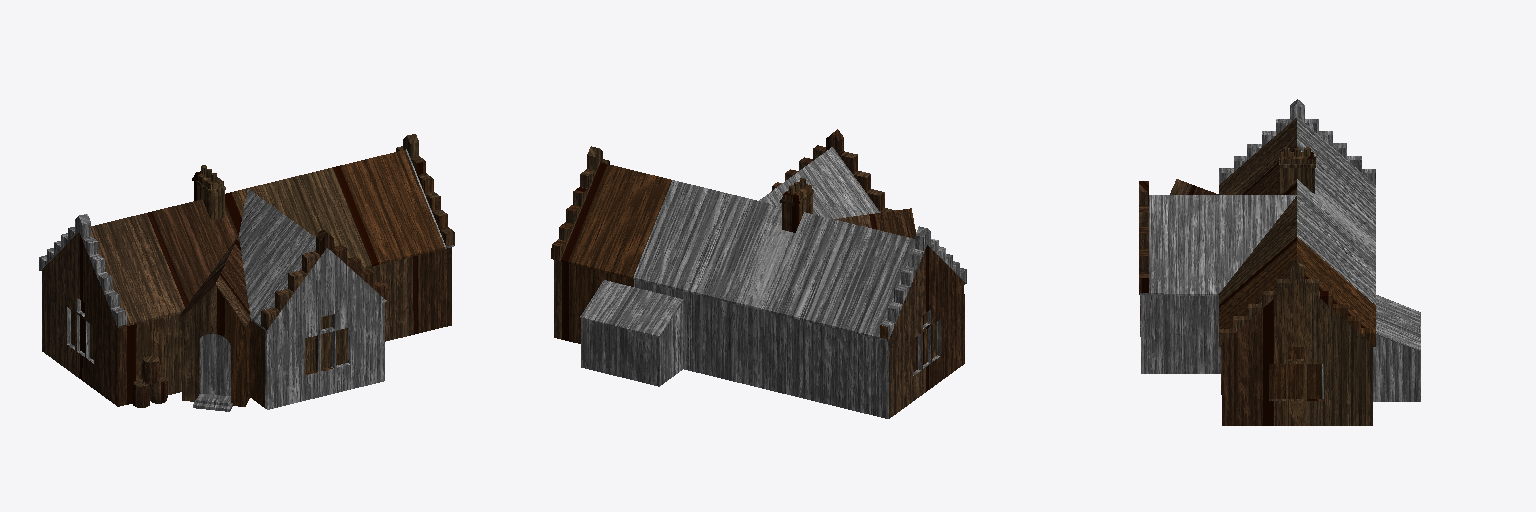
3 views of the same model, side by side, from view 1: azimuth 30°, elevation 25°; view 2: azimuth 150°, elevation 25°; view 3: azimuth 270°, elevation 25° (orthographic).
Parts seen in each view (by area): view 1: house_obj; view 2: house_obj; view 3: house_obj.
Part boxes in pixels (left/top/right/bottom): house_obj: left=39, top=134, right=454, bottom=411; house_obj: left=551, top=129, right=966, bottom=418; house_obj: left=1139, top=99, right=1420, bottom=425.
Size of the model in its own units: 9.03 by 4.55 by 6.55.
Materials: 1 (1 with a texture image).